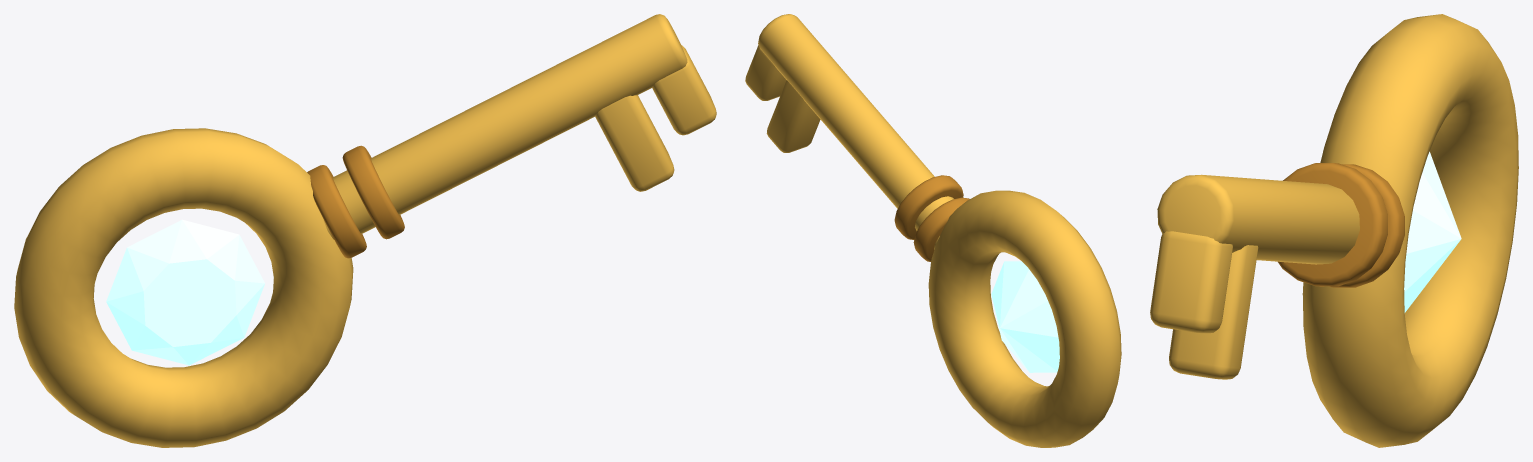
Rendered from VaultKey.fbx.
3 renders of one model, left to right at view 1: azimuth 30°, elevation 25°; view 2: azimuth 150°, elevation 25°; view 3: azimuth 270°, elevation 25°, orthographic. The views are drawn at different scales.
Parts seen in each view (by area): view 1: VaultKey_Body, VaultKey_Neon, VaultKey_Trim; view 2: VaultKey_Body, VaultKey_Neon, VaultKey_Trim; view 3: VaultKey_Body, VaultKey_Trim, VaultKey_Neon.
Boxes of the visible parts, <box> form: VaultKey_Body: <box>14,14,716,447</box>; VaultKey_Neon: <box>106,219,264,365</box>; VaultKey_Trim: <box>307,145,404,258</box>; VaultKey_Body: <box>745,14,1121,447</box>; VaultKey_Neon: <box>991,261,1059,372</box>; VaultKey_Trim: <box>894,175,969,261</box>; VaultKey_Body: <box>1150,14,1518,447</box>; VaultKey_Trim: <box>1278,163,1404,287</box>; VaultKey_Neon: <box>1404,151,1461,312</box>.
Size of the model in its own units: 3 by 1.92 by 1.29.
